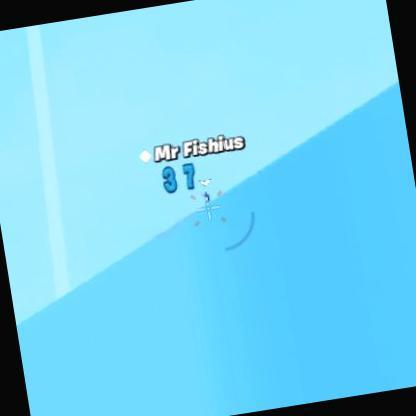person: (204, 188, 210, 202)
